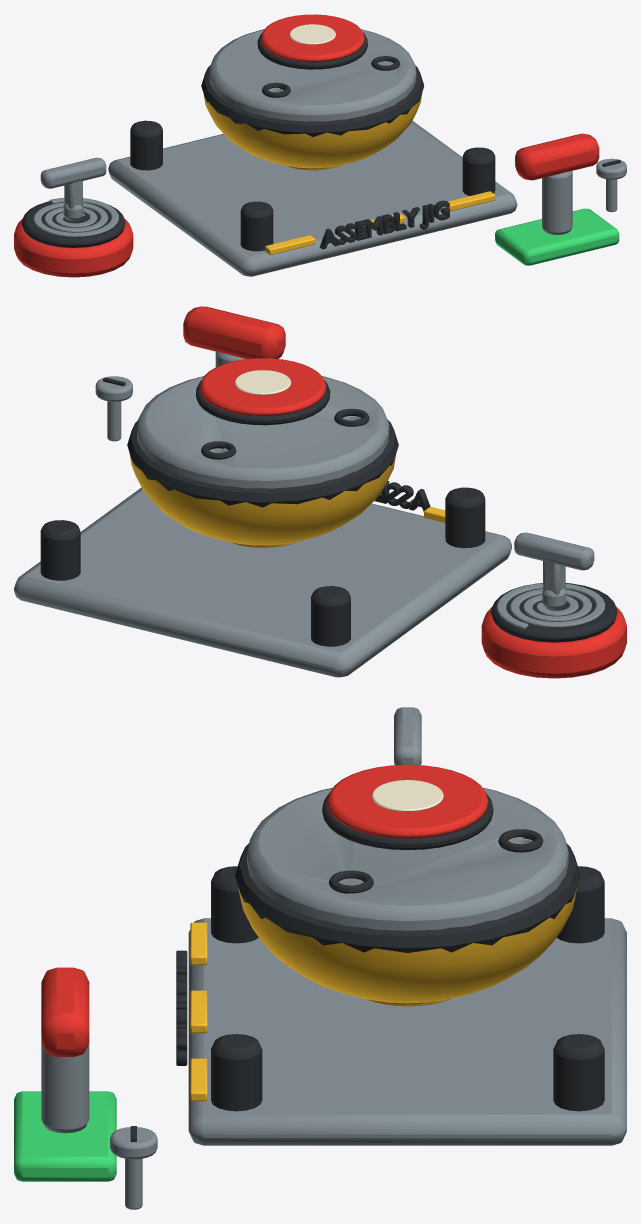
The model's file is ACME_PropFactory_Complete.fbx.
3 views of the same model, one above another, from view 1: azimuth 30°, elevation 25°; view 2: azimuth 150°, elevation 25°; view 3: azimuth 270°, elevation 25° (orthographic). The views are drawn at different scales.
Parts seen in each view (by area): view 1: Jig_Base, TopPlate_Body, Hollow_Bowl_Shell, Stamp_Pad, ClockSpring_Cartridge, Shell_Rim, Pressure_Plate, Stamp_Handle, Jig_Text, ClockSpring_Face, Flat_ClockSpring, Stamp_Post (+11 smaller); view 2: Jig_Base, TopPlate_Body, Hollow_Bowl_Shell, ClockSpring_Cartridge, Shell_Rim, Pressure_Plate, Stamp_Handle, Flat_ClockSpring, ClockSpring_Face, Jig_Stop.003, Jig_Stop, Jig_Stop.001 (+7 smaller); view 3: Jig_Base, TopPlate_Body, Hollow_Bowl_Shell, Shell_Rim, Pressure_Plate, Stamp_Pad, Stamp_Handle, Stamp_Post, Jig_Stop.003, Jig_Stop.002, Jig_Stop.001, Jig_Stop (+11 smaller).
Boxes of the visible parts, box(x1,y1,x2,y2) form: Jig_Base: box(108, 120, 517, 276); TopPlate_Body: box(209, 29, 416, 121); Hollow_Bowl_Shell: box(203, 93, 422, 170); Stamp_Pad: box(495, 208, 619, 265); ClockSpring_Cartridge: box(14, 218, 133, 277); Shell_Rim: box(201, 65, 424, 136); Pressure_Plate: box(261, 14, 364, 61); Stamp_Handle: box(515, 133, 599, 180); Jig_Text: box(319, 200, 449, 249); ClockSpring_Face: box(21, 201, 125, 247); Flat_ClockSpring: box(33, 197, 118, 236); Stamp_Post: box(542, 171, 572, 234); Jig_Base: box(14, 487, 511, 677); TopPlate_Body: box(137, 376, 389, 488); Hollow_Bowl_Shell: box(129, 453, 395, 547); ClockSpring_Cartridge: box(481, 606, 626, 678); Shell_Rim: box(127, 419, 398, 507); Pressure_Plate: box(200, 358, 325, 415); Stamp_Handle: box(183, 306, 285, 358); Flat_ClockSpring: box(496, 583, 605, 629); ClockSpring_Face: box(491, 583, 617, 642); Jig_Stop.003: box(40, 520, 80, 580); Jig_Stop: box(445, 487, 485, 548); Jig_Stop.001: box(311, 586, 350, 646); Jig_Base: box(188, 918, 626, 1145); TopPlate_Body: box(247, 787, 568, 930); Hollow_Bowl_Shell: box(238, 888, 576, 1006); Shell_Rim: box(235, 843, 580, 952); Pressure_Plate: box(327, 764, 488, 838); Stamp_Pad: box(14, 1091, 116, 1181); Stamp_Handle: box(41, 967, 89, 1056); Stamp_Post: box(41, 1043, 89, 1133); Jig_Stop.003: box(553, 1034, 604, 1111); Jig_Stop.002: box(211, 1034, 262, 1111); Jig_Stop.001: box(557, 866, 604, 943); Jig_Stop: box(211, 866, 258, 943).
Bounding box in the file's own units: 269 × 81.5 × 179.
